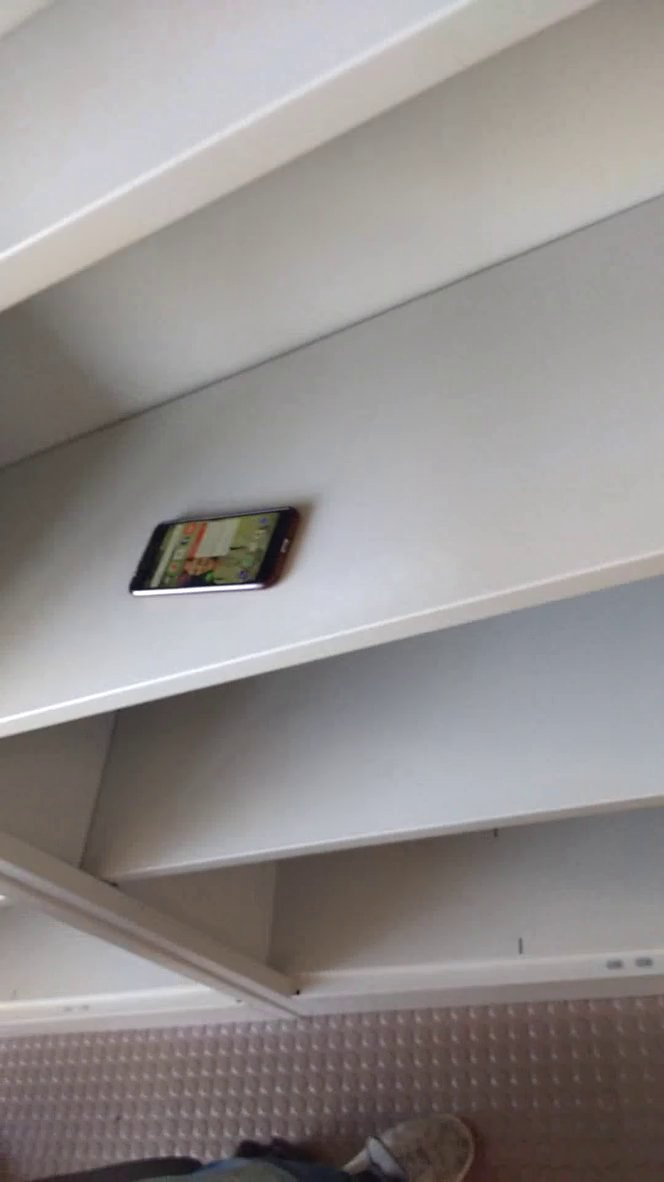phone: (119, 497, 315, 603)
